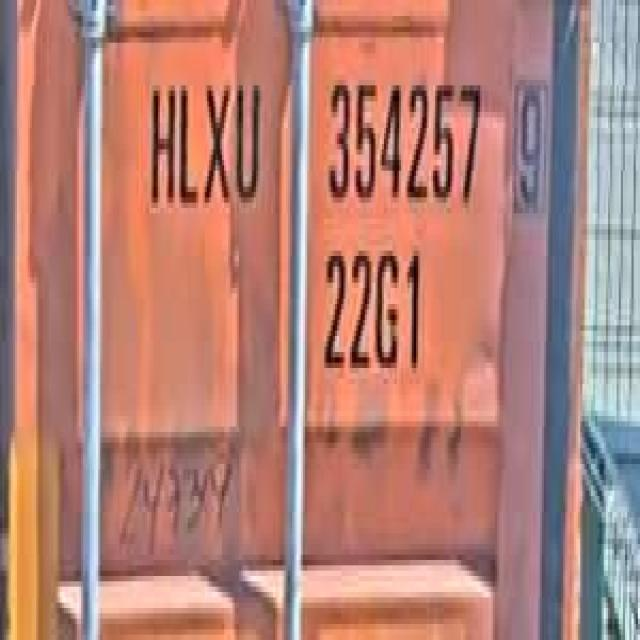dv: (506, 64, 552, 229)
owner: (143, 58, 264, 218)
serial: (320, 58, 486, 218)
size: (316, 229, 426, 384)
